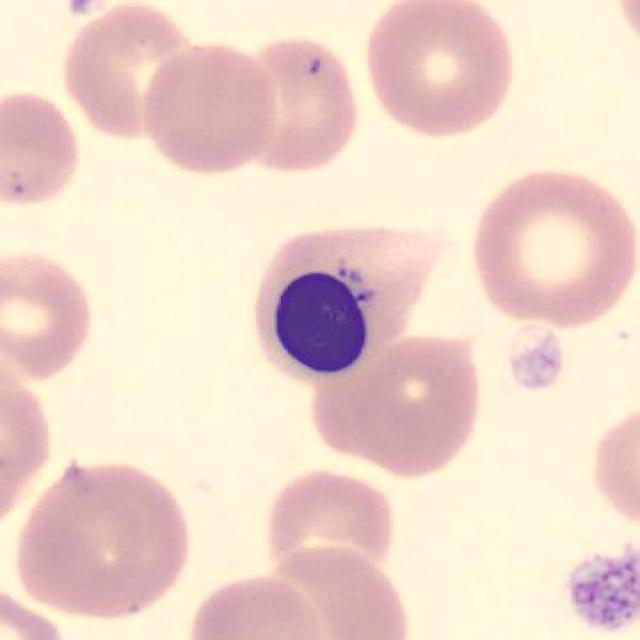Platelets: (556, 534, 640, 638)
RBC: (9, 453, 199, 628), (487, 292, 633, 510), (461, 160, 638, 332), (329, 326, 489, 487), (359, 0, 519, 143), (53, 1, 210, 144), (139, 35, 279, 180), (234, 28, 364, 180), (215, 543, 418, 638), (256, 464, 400, 582), (0, 245, 100, 384), (0, 347, 60, 532), (179, 569, 329, 640), (0, 84, 85, 209), (585, 404, 640, 534), (0, 583, 73, 640)
